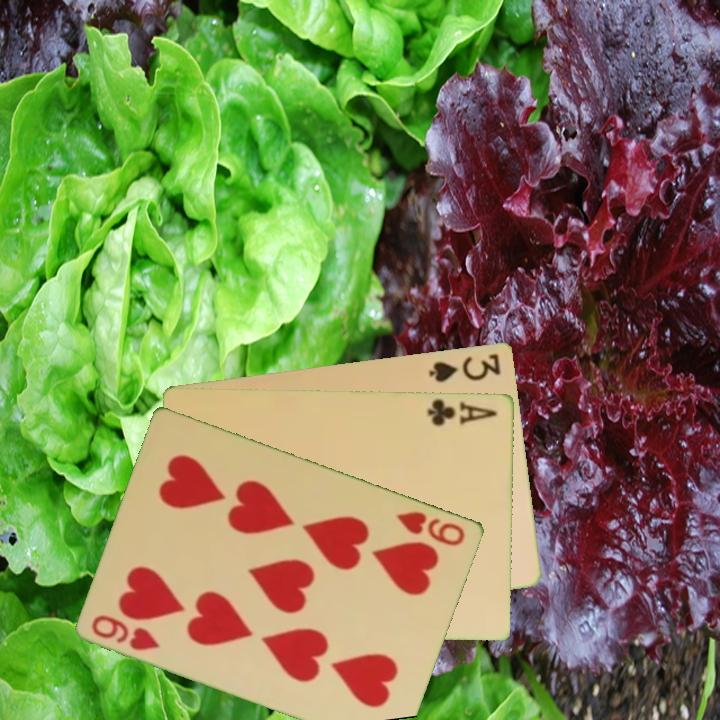3s: (426, 349, 504, 385)
9h: (393, 507, 468, 549), (88, 611, 163, 653)
Ac: (424, 394, 500, 428)
